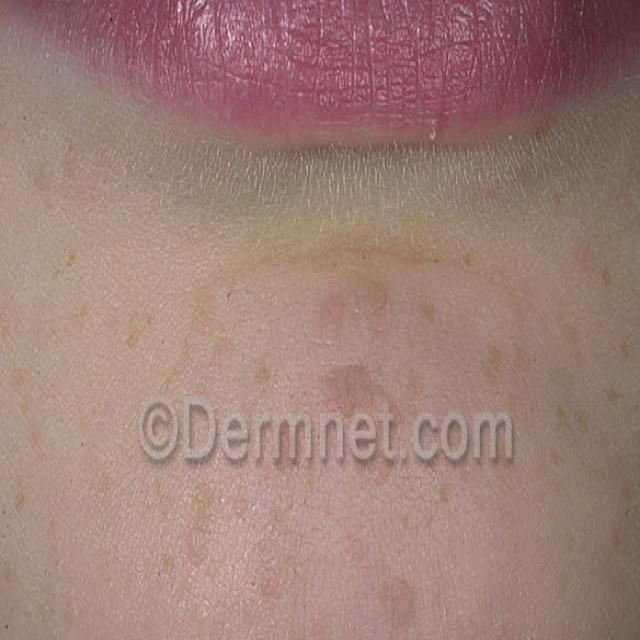Warts: (0, 228, 640, 640)
